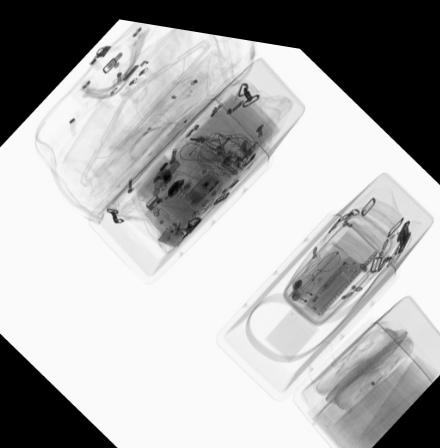Lighter: (177, 130, 202, 158)
